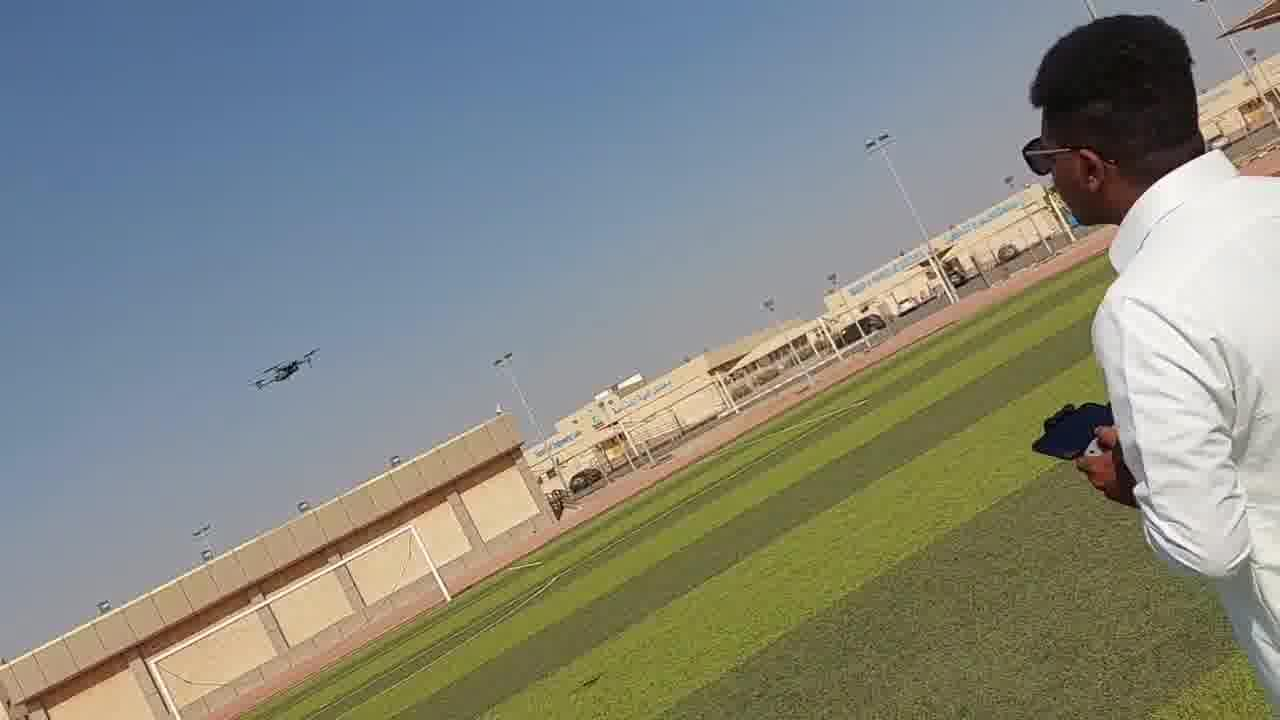drone: (234, 333, 325, 397)
